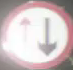Two way: (10, 7, 63, 60)
